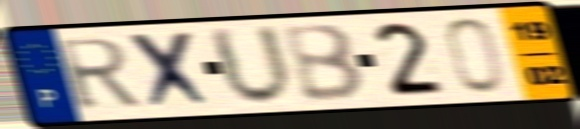0: (440, 14, 512, 98)
2: (371, 20, 449, 98)
B: (278, 21, 370, 104)
R: (53, 35, 146, 113)
U: (204, 22, 298, 109)
X: (125, 28, 219, 114)
